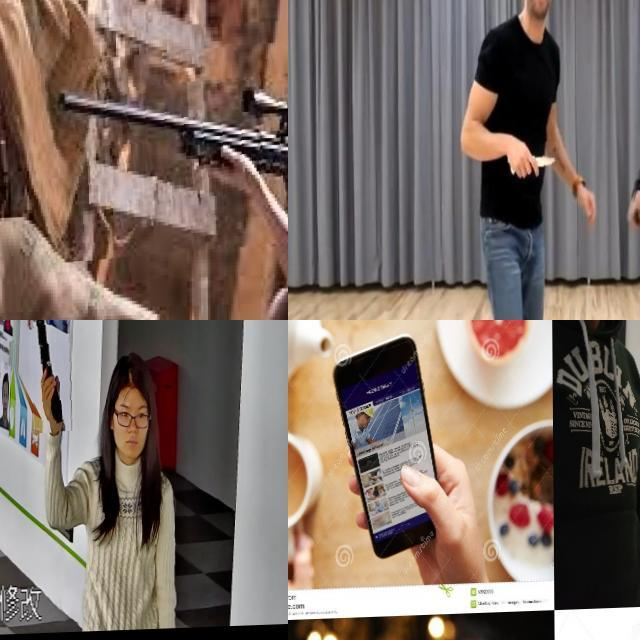-: (508, 144, 558, 182)
gun-knife-thesis - v11 Yolov5 augmented: (41, 41, 288, 260), (28, 320, 73, 435)
